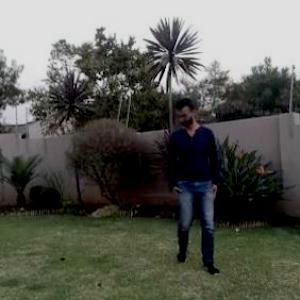follow: (169, 94, 227, 274)
